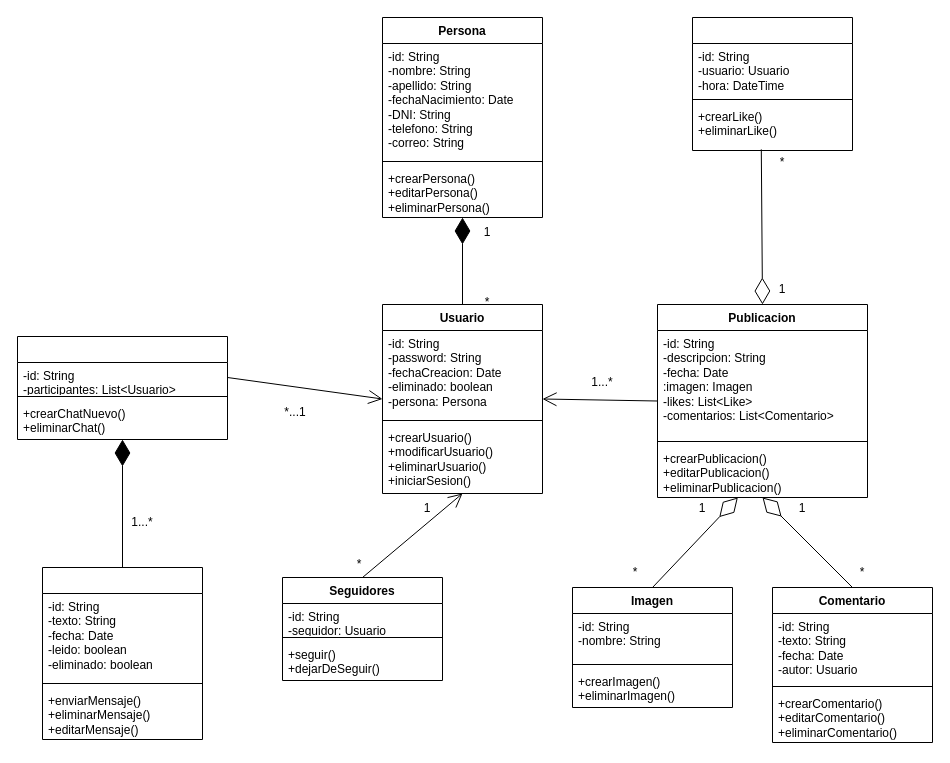
Some shapes in this 950 by 763 pixel diagram are drawn without their labels. The box of each missing label's shape, as (x1, y1, x2, y2) in pixels:
Chats: (16, 336, 228, 440)
Likes: (692, 16, 852, 150)
MensajeDirecto: (42, 566, 202, 740)
